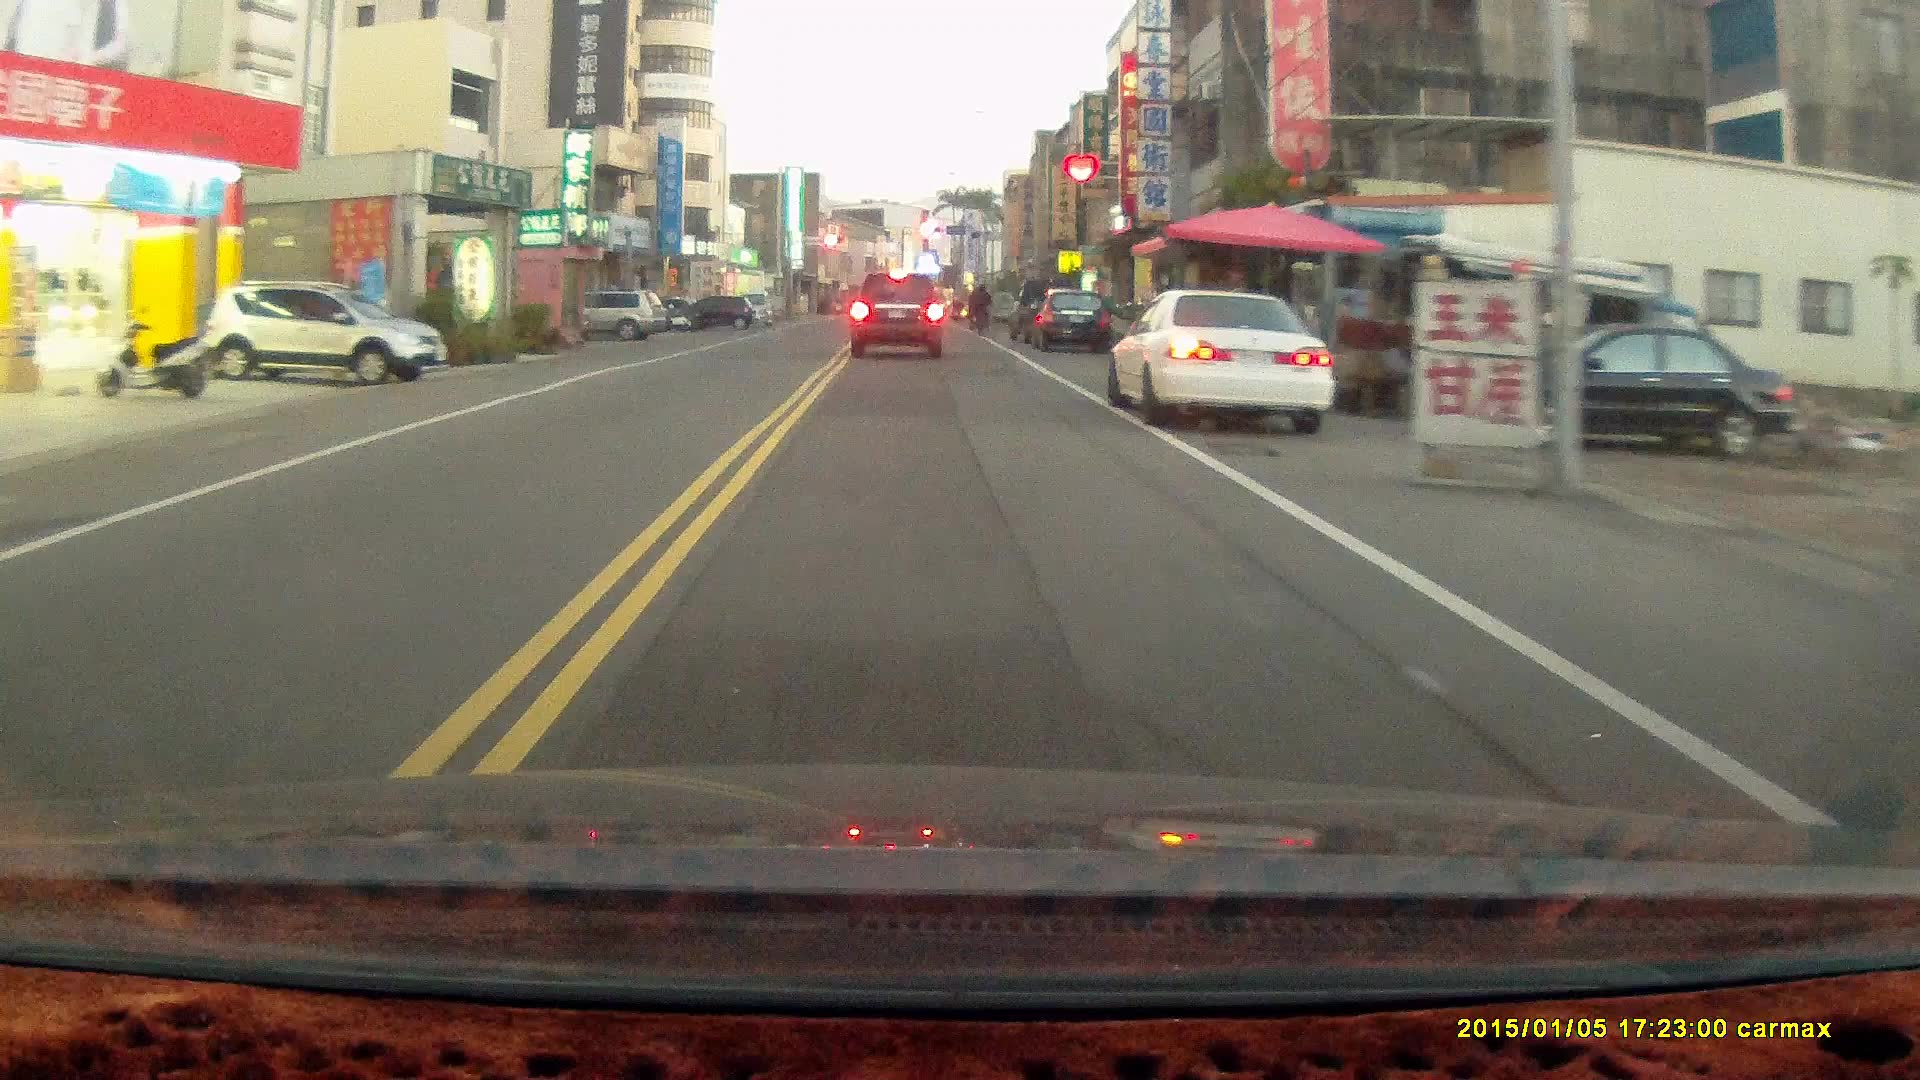rider: (967, 281, 993, 342)
vehicle: (1458, 319, 1798, 462), (1112, 290, 1333, 429), (202, 281, 444, 387), (848, 269, 949, 361), (564, 289, 669, 343), (1032, 289, 1115, 354)
